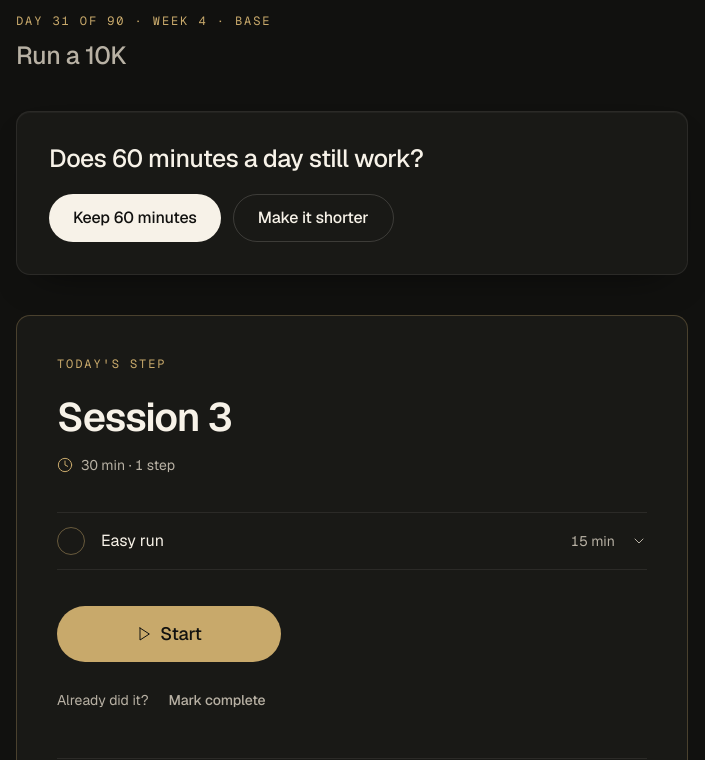
Test: The daily-time card (AC-5) › Make it shorter offers the shorter options; choosing one posts it and says when it applies
Expected: the heading "Run a 10K" is shown, [16,39,126,71]
Click the button "Make it shorter": (313, 218) [233,194,394,242]
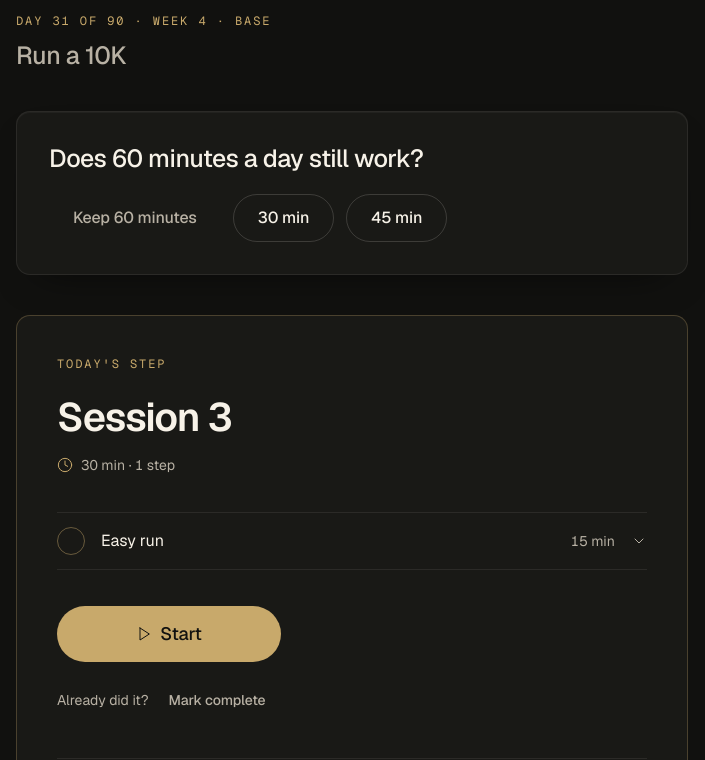
Result: the button "30 min" is shown at [233,194,334,242]
Click the button "45 min": (397, 218) [346,194,447,242]
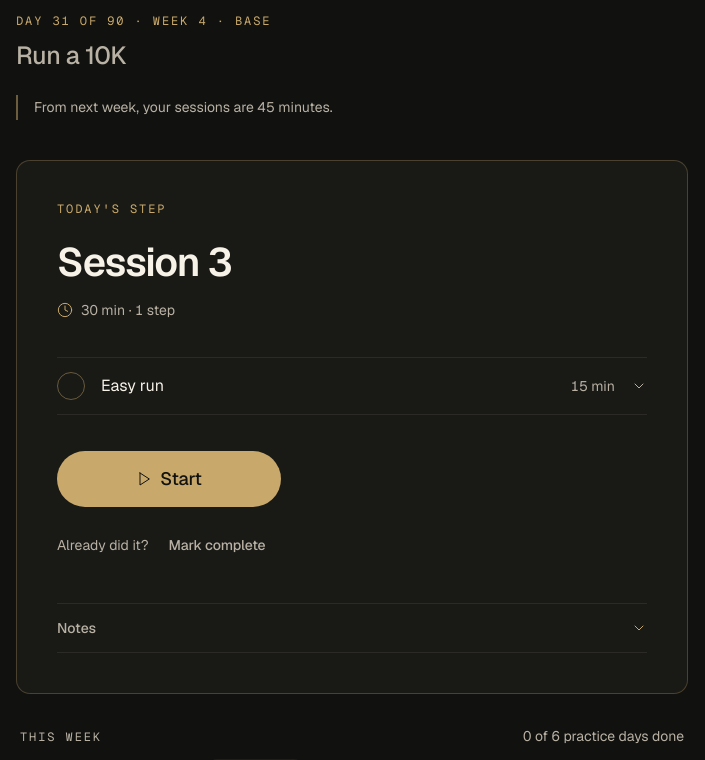
Result: the heading "Does 60 minutes a day still work?" is gone
